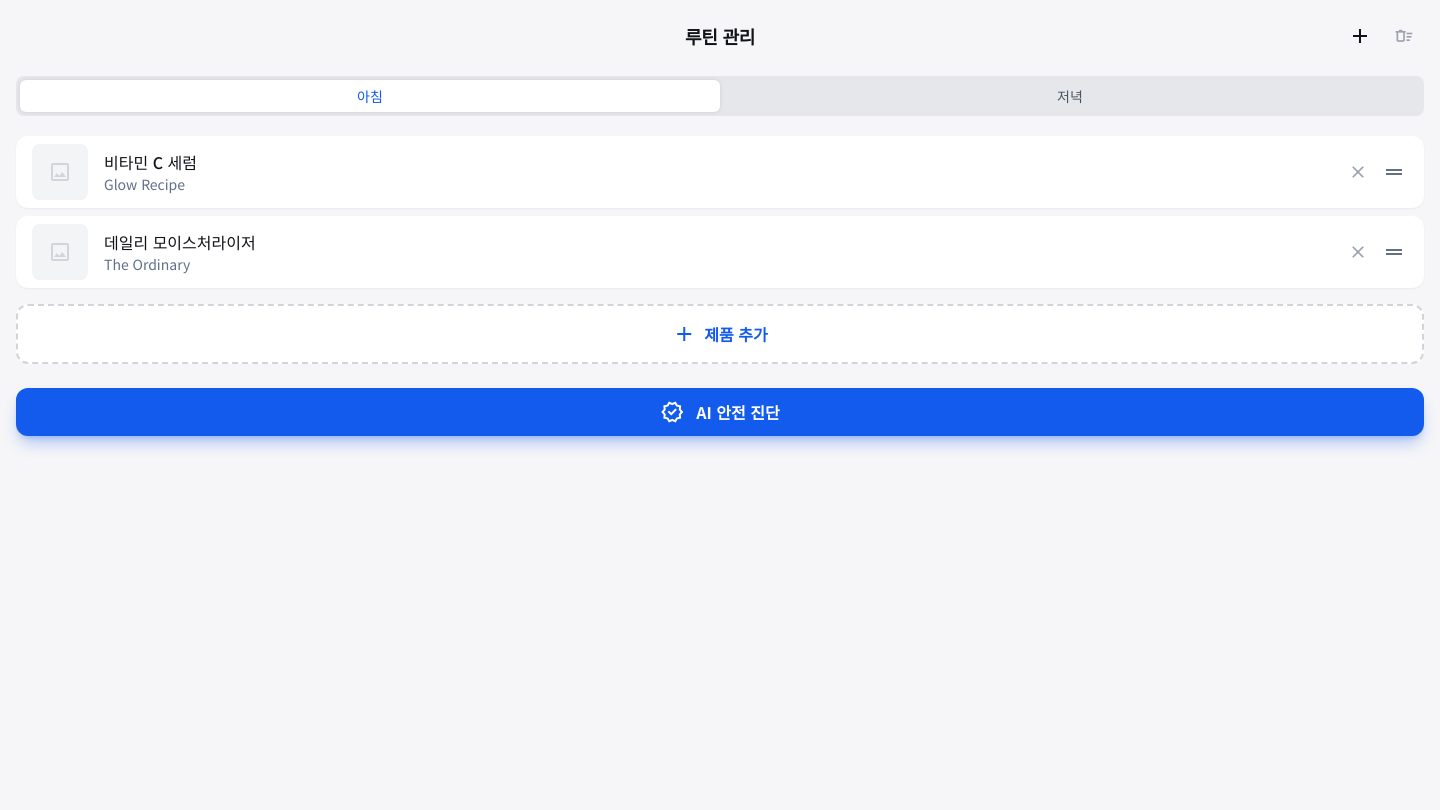
Test case: 제품 추가 버튼 클릭 시 바텀 시트가 열린다
Expected: the text "비타민 C 세럼" is shown, [104, 150, 197, 174]
Click the button named "제품 추가": [1360, 36] box [1340, 16, 1380, 56]
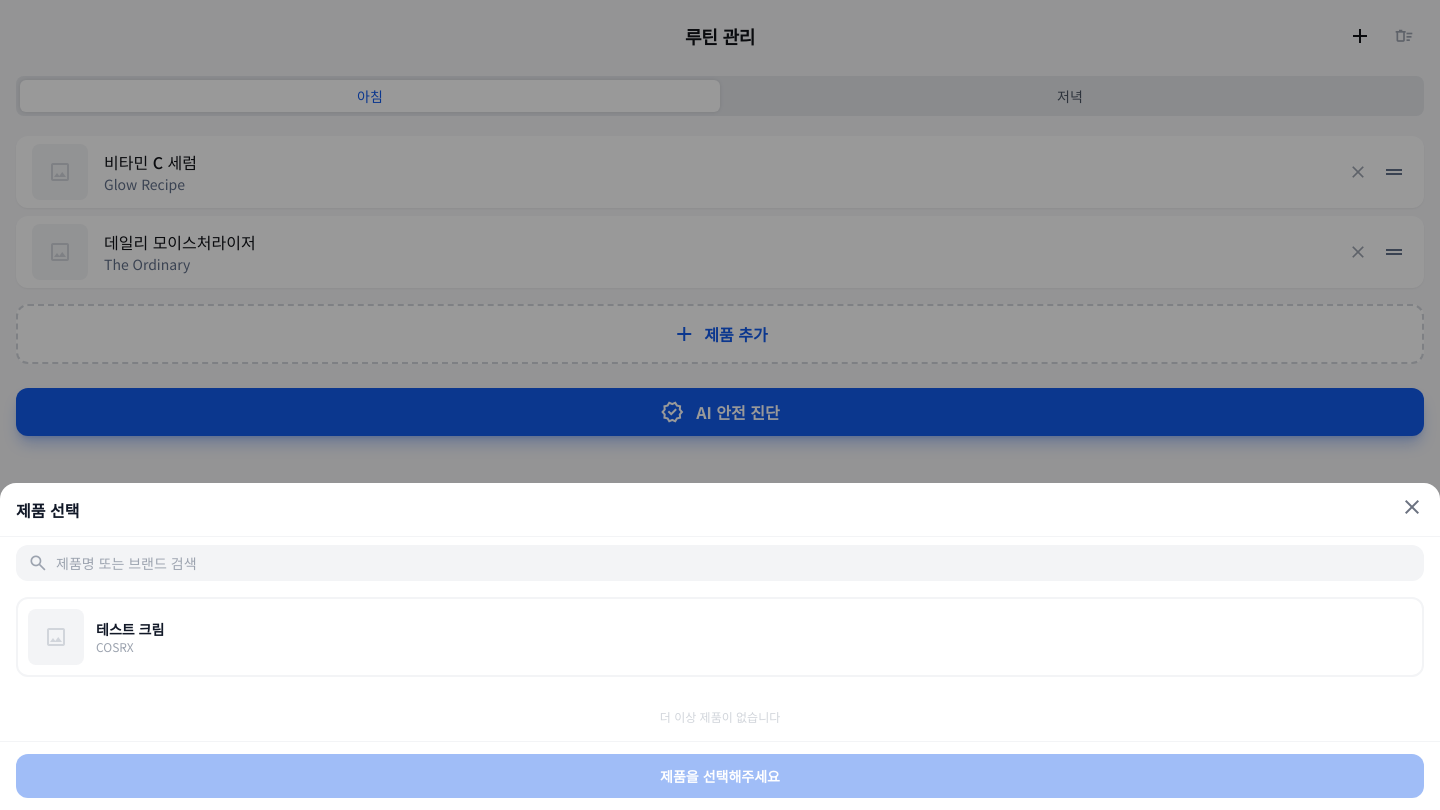
Now the heading "제품 선택" is shown, box [16, 498, 79, 522]
